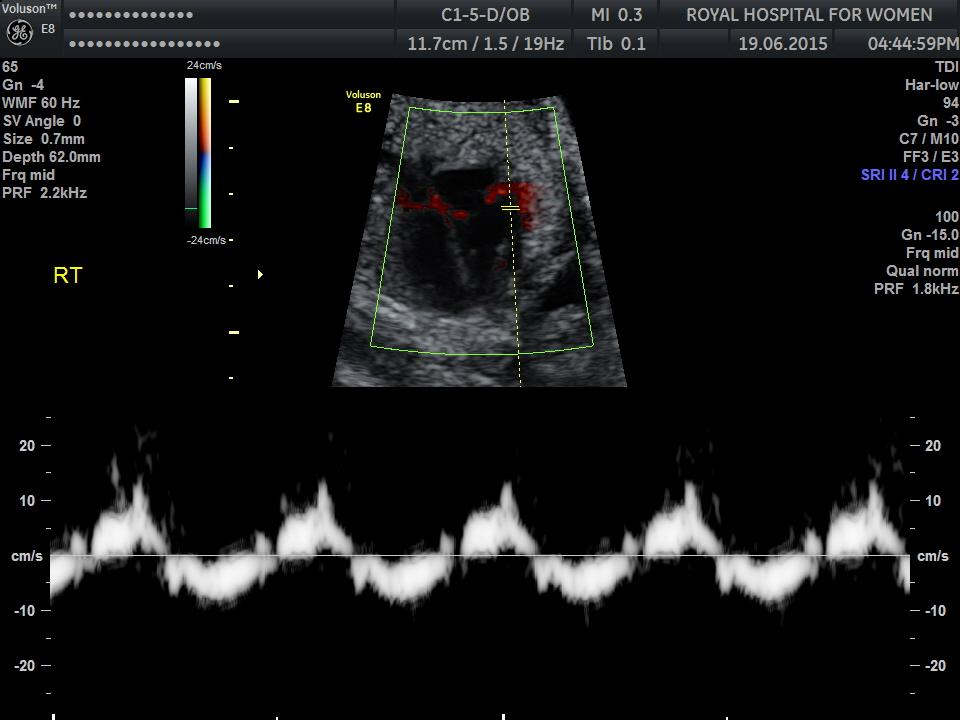Ultrasound-Waves: (52, 406, 910, 719)
